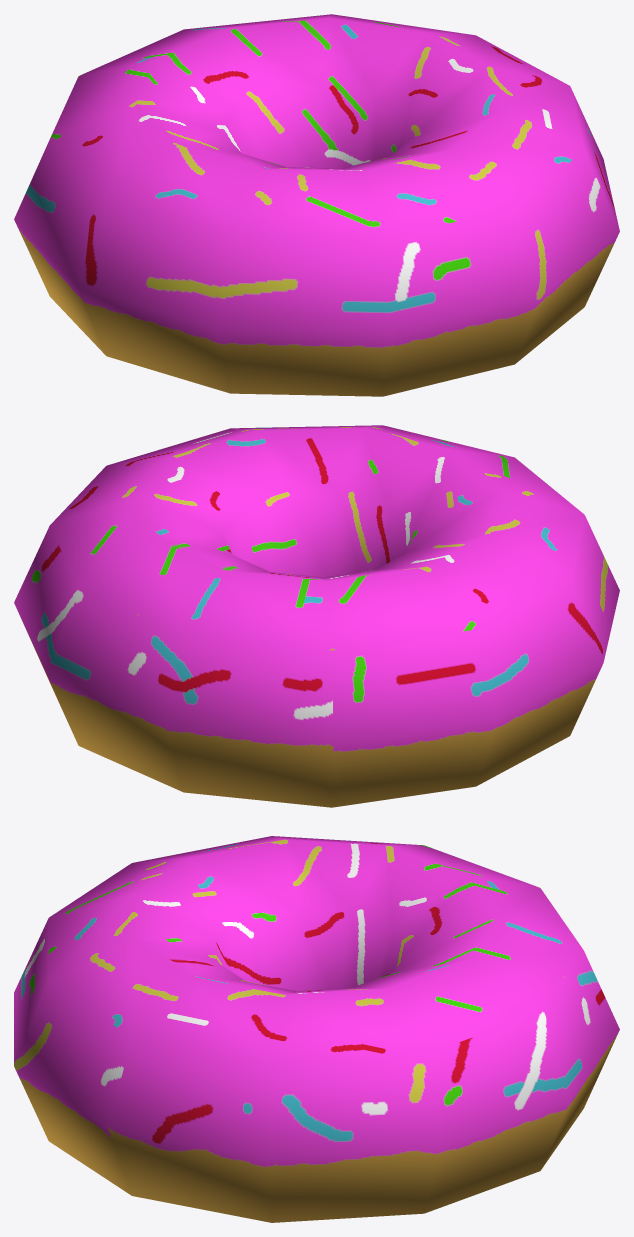
Rendered from MD_Donut.FBX.
3 views of the same model, one above another, from view 1: azimuth 30°, elevation 25°; view 2: azimuth 150°, elevation 25°; view 3: azimuth 270°, elevation 25° (orthographic).
Parts seen in each view (by area): view 1: MD_Donut; view 2: MD_Donut; view 3: MD_Donut.
Part boxes in pixels (bbox=[...]): MD_Donut: bbox=[14, 14, 619, 396]; MD_Donut: bbox=[14, 425, 619, 807]; MD_Donut: bbox=[14, 836, 619, 1222].
Size of the model in its own units: 14.85 by 6 by 14.7.
